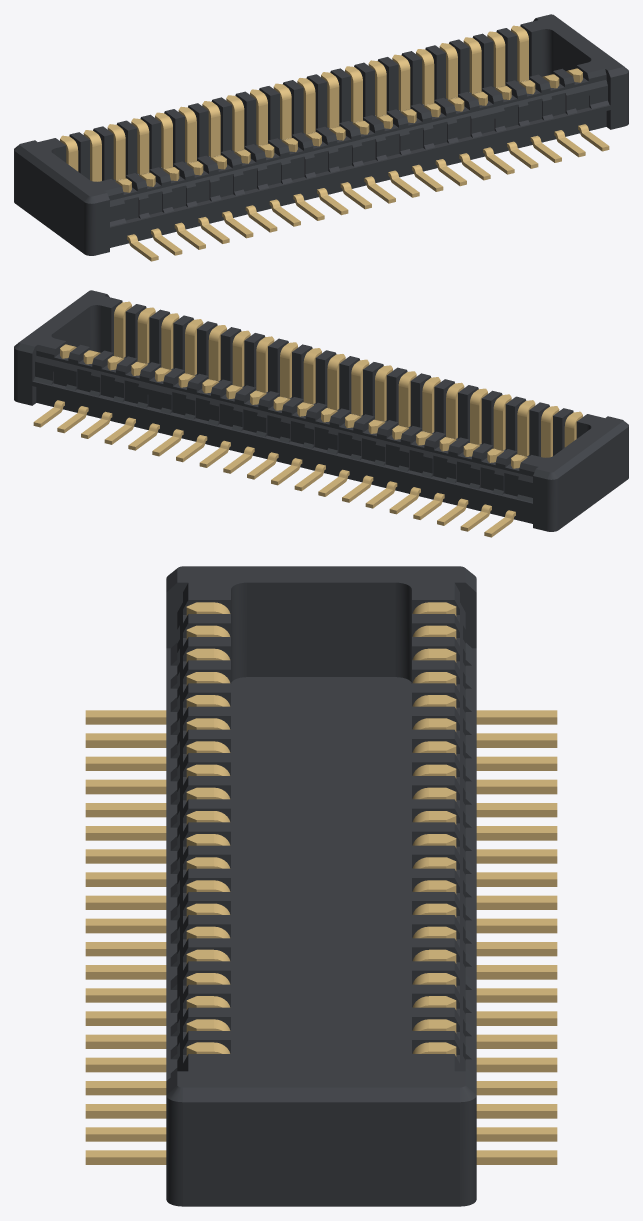
The model's file is kc-molex_slimstack_55560-0401_2x20_p0.50mm_vertical.glb.
The picture shows the model from 3 angles, top to bottom: view 1: azimuth 30°, elevation 25°; view 2: azimuth 150°, elevation 25°; view 3: azimuth 270°, elevation 25°; orthographic projection. The views are drawn at different scales.
Visible parts, largest first — view 1: 0.08333333333333333_0.08333333333333333_0.08333333333333333_, 0.75_0.5_0.25_0.9; view 2: 0.08333333333333333_0.08333333333333333_0.08333333333333333_, 0.75_0.5_0.25_0.9; view 3: 0.08333333333333333_0.08333333333333333_0.08333333333333333_, 0.75_0.5_0.25_0.9.
Part boxes in pixels (box(x1,y1,x2,y2)): 0.08333333333333333_0.08333333333333333_0.08333333333333333_: box(14, 14, 628, 255); 0.75_0.5_0.25_0.9: box(60, 25, 609, 261); 0.08333333333333333_0.08333333333333333_0.08333333333333333_: box(14, 290, 628, 531); 0.75_0.5_0.25_0.9: box(33, 301, 582, 537); 0.08333333333333333_0.08333333333333333_0.08333333333333333_: box(166, 566, 476, 1206); 0.75_0.5_0.25_0.9: box(85, 602, 557, 1164).
Size of the model in its own units: 1.14 by 0.115 by 0.43.
